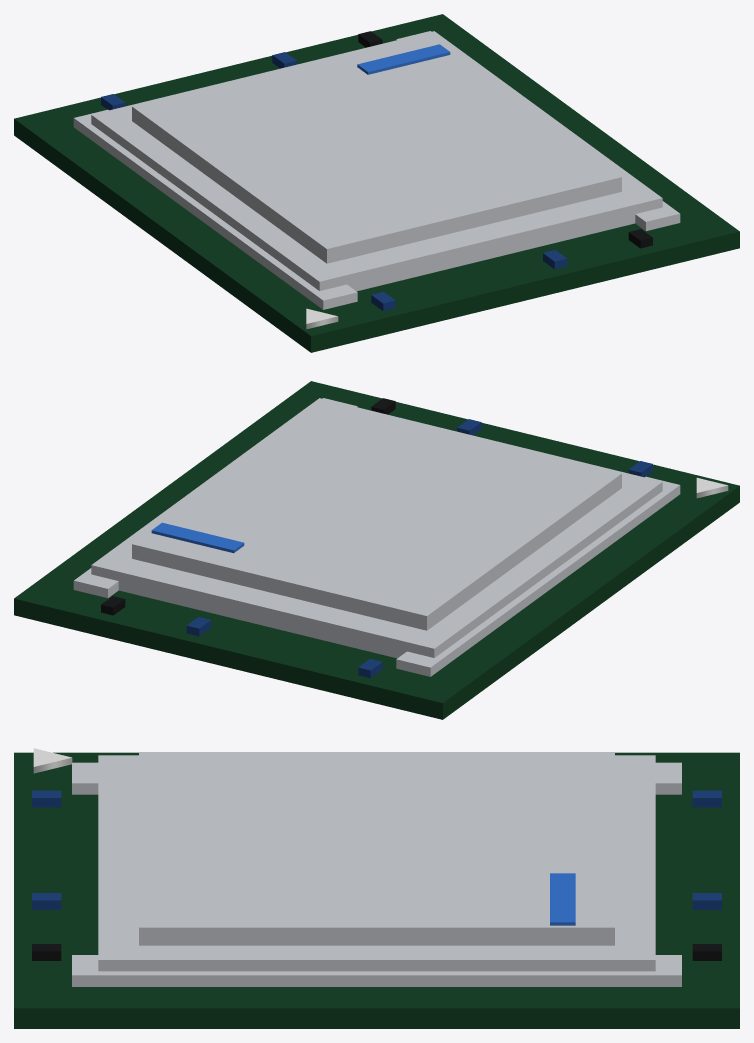
File: hw_cpu_i5_6c.glb
The picture shows the model from 3 angles, top to bottom: view 1: azimuth 30°, elevation 25°; view 2: azimuth 150°, elevation 25°; view 3: azimuth 270°, elevation 25°; orthographic projection. The views are drawn at different scales.
Parts seen in each view (by area): view 1: Body; view 2: Body; view 3: Body.
Boxes of the visible parts, x1,y1,x2,y2 form: Body: (14,14,739,352); Body: (14,381,739,719); Body: (14,748,739,1028).
Size of the model in its own units: 0.0375 by 0.00467 by 0.045.
